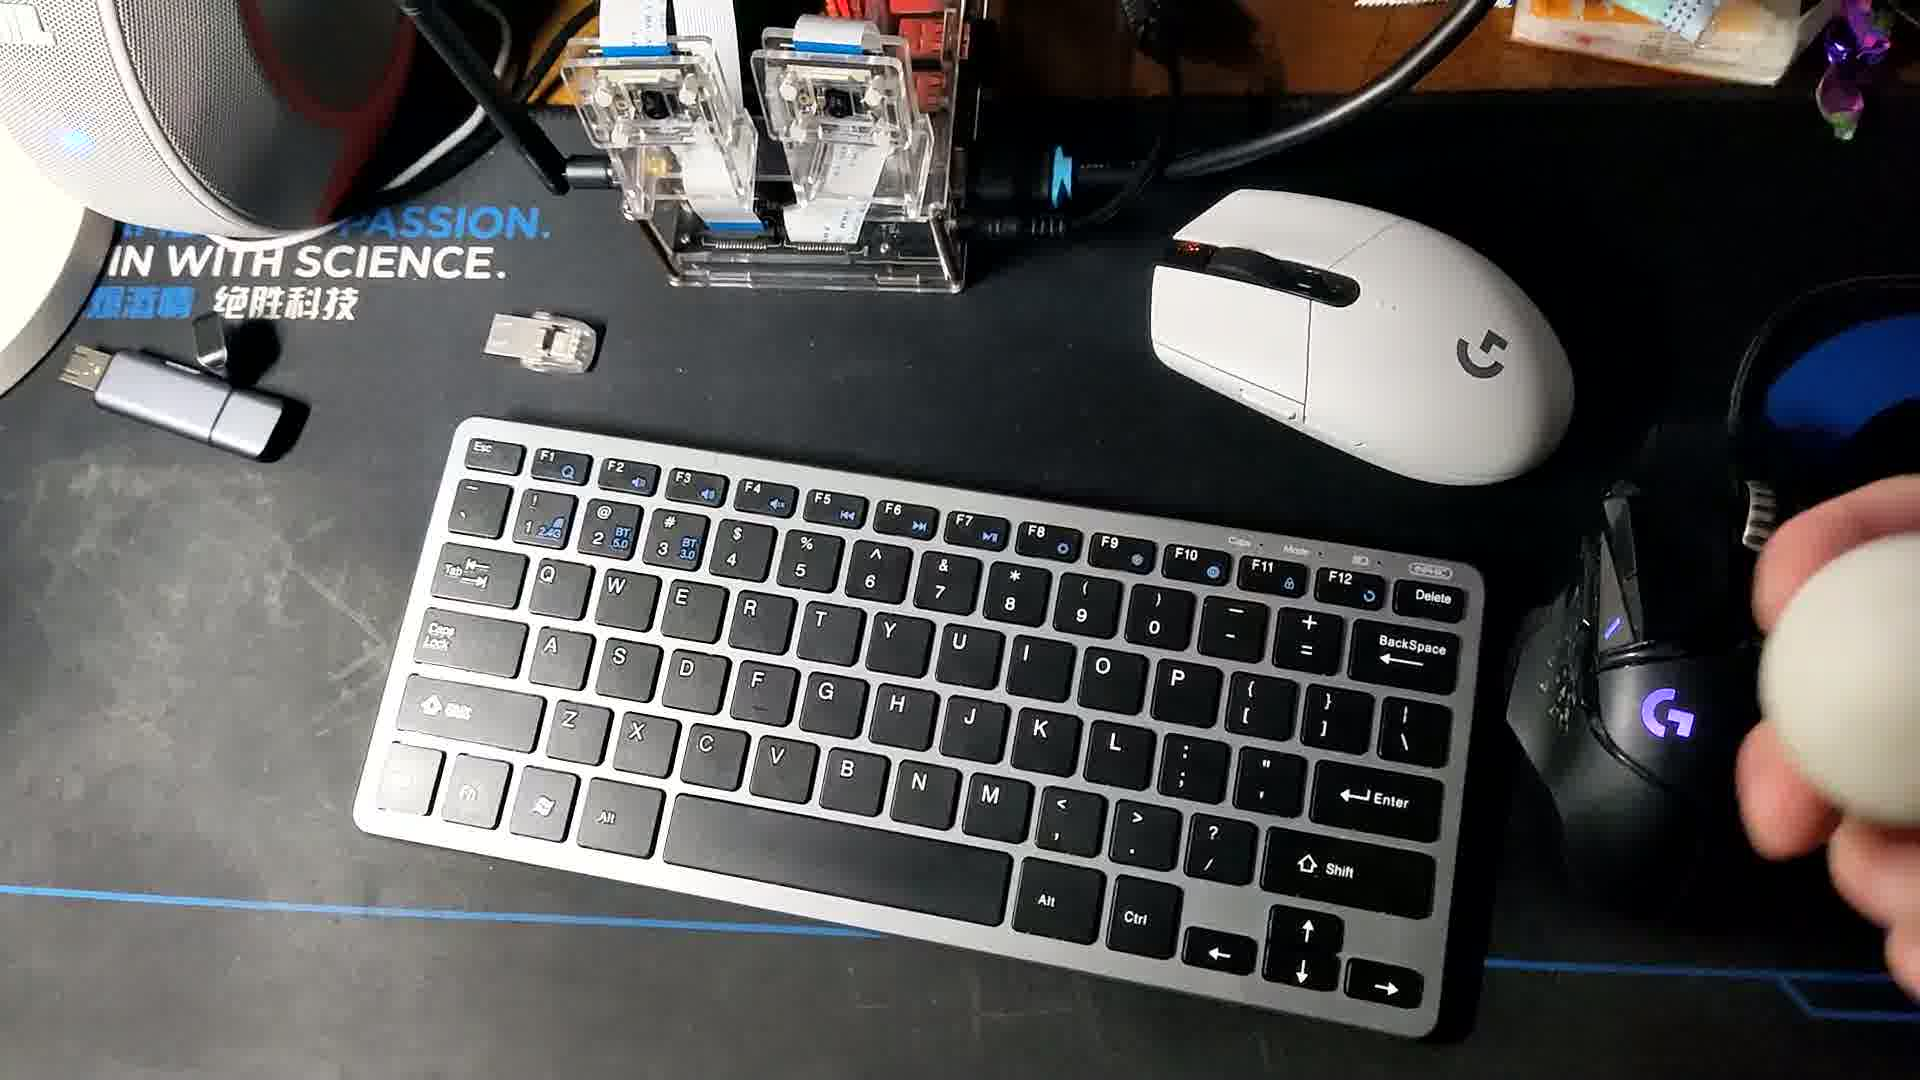Ball: (1770, 508, 1920, 832)
